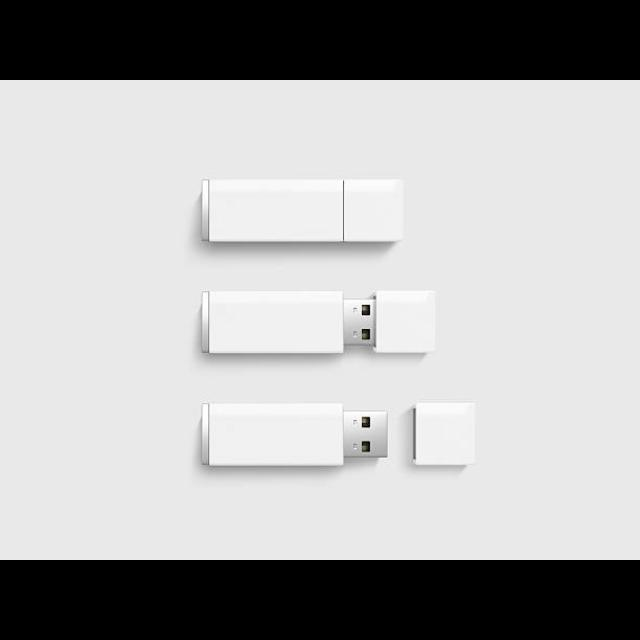USB-Flash-Drive: (200, 403, 390, 468)
